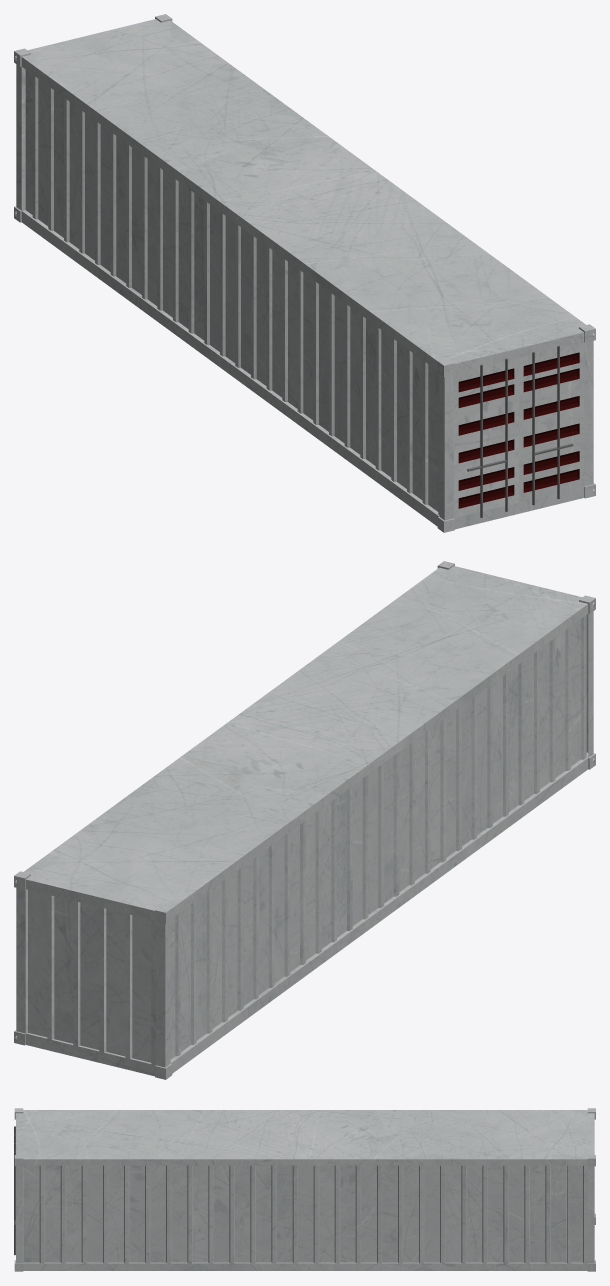
File: Container.FBX
3 renders of one model, top to bottom at view 1: azimuth 30°, elevation 25°; view 2: azimuth 150°, elevation 25°; view 3: azimuth 270°, elevation 25°, orthographic. The views are drawn at different scales.
Parts seen in each view (by area): view 1: Container, Door_R, Door_L; view 2: Container; view 3: Container.
Boxes of the visible parts, x1=… form: Container: x1=14, y1=14, x2=595, y2=532; Door_R: x1=519, y1=342, x2=584, y2=505; Door_L: x1=454, y1=358, x2=518, y2=518; Container: x1=14, y1=561, x2=595, y2=1079; Container: x1=14, y1=1108, x2=595, y2=1271.
Size of the model in its own units: 98 by 103 by 481.
Materials: 3 (1 with a texture image).
